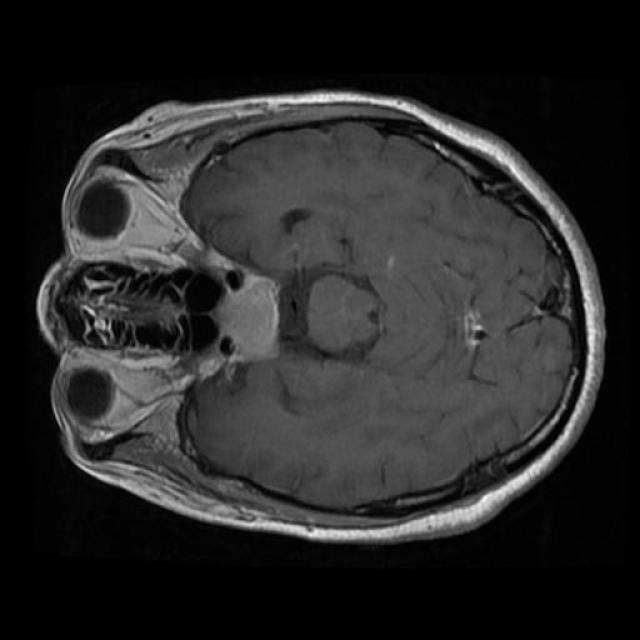Pituitary: (210, 270, 278, 361)
